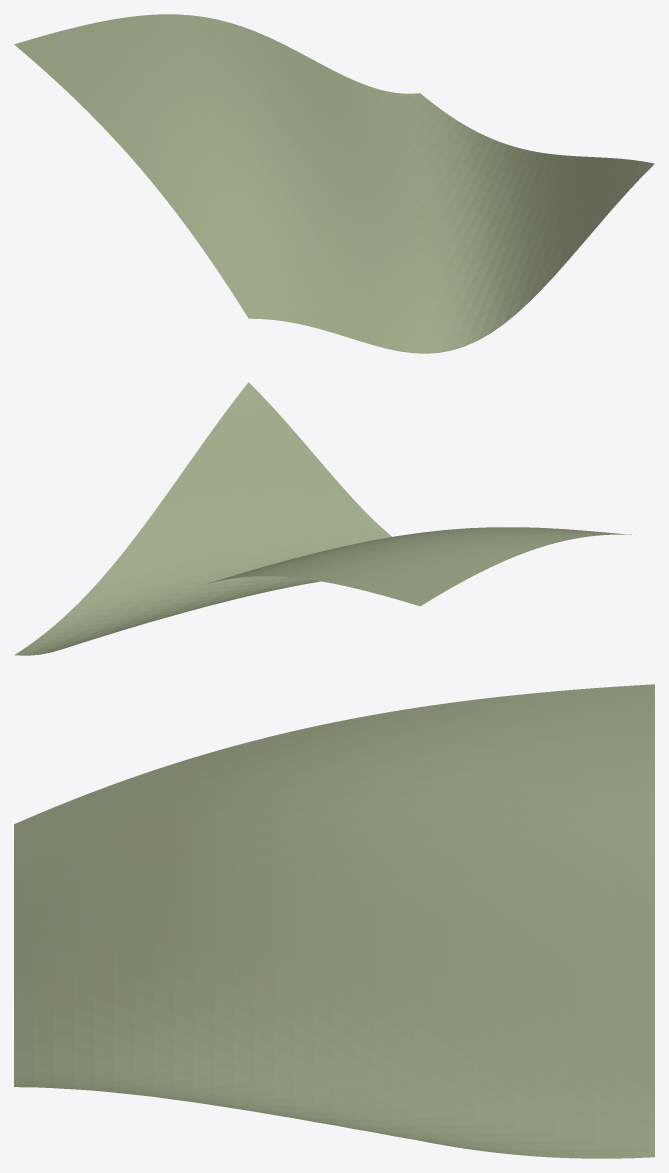
Rendered from expanse-13-13.glb.
3 renders of one model, top to bottom at view 1: azimuth 30°, elevation 25°; view 2: azimuth 150°, elevation 25°; view 3: azimuth 270°, elevation 25°, orthographic. The views are drawn at different scales.
Visible parts, largest first — view 1: expanse-13-13; view 2: expanse-13-13; view 3: expanse-13-13.
Boxes of the visible parts, box(x1,y1,x2,y2) form: expanse-13-13: box(14, 14, 654, 353); expanse-13-13: box(14, 382, 635, 655); expanse-13-13: box(14, 684, 654, 1158).
Size of the model in its own units: 256 by 112 by 256.
